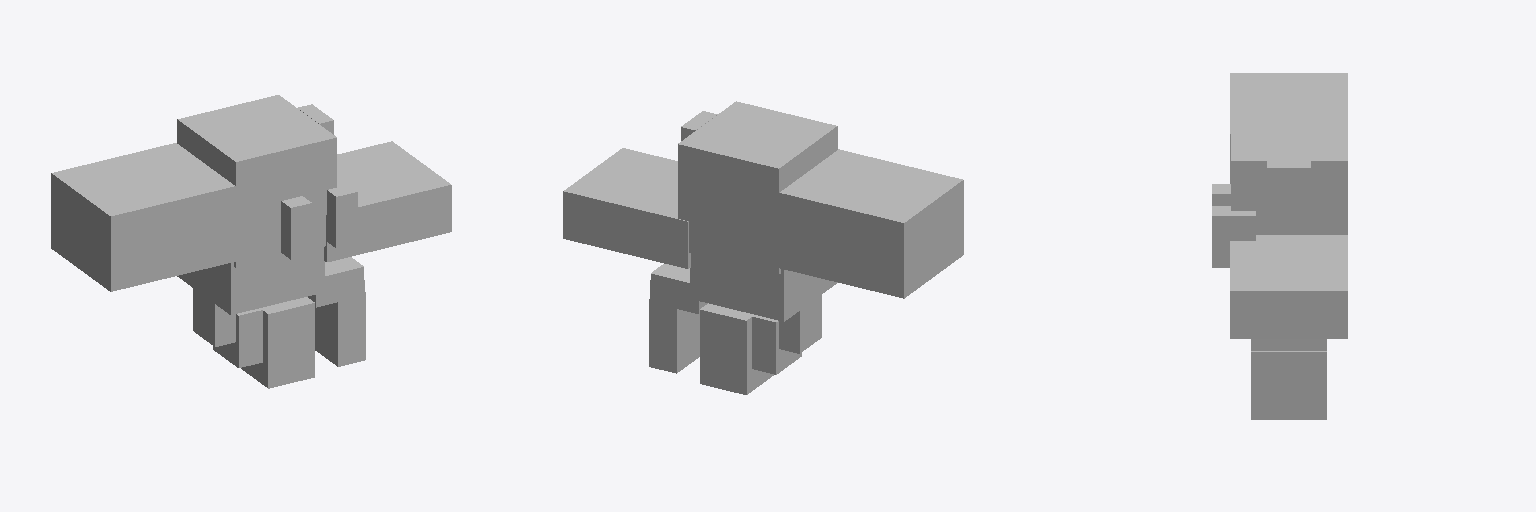
File: player.obj
The picture shows the model from 3 angles: view 1: azimuth 30°, elevation 25°; view 2: azimuth 150°, elevation 25°; view 3: azimuth 270°, elevation 25°; orthographic projection.
Visible parts, largest first — view 1: 立方体.001; view 2: 立方体.001; view 3: 立方体.001.
Boxes of the visible parts, x1=… form: 立方体.001: x1=51, y1=95, x2=451, y2=388; 立方体.001: x1=563, y1=101, x2=963, y2=394; 立方体.001: x1=1212, y1=73, x2=1347, y2=419.
Bounding box in the file's own units: 2.79 × 1.93 × 0.9712.